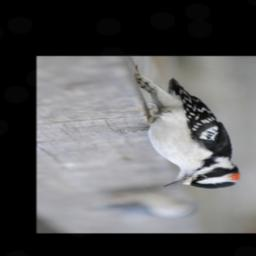Woodpecker: (131, 64, 252, 195)
